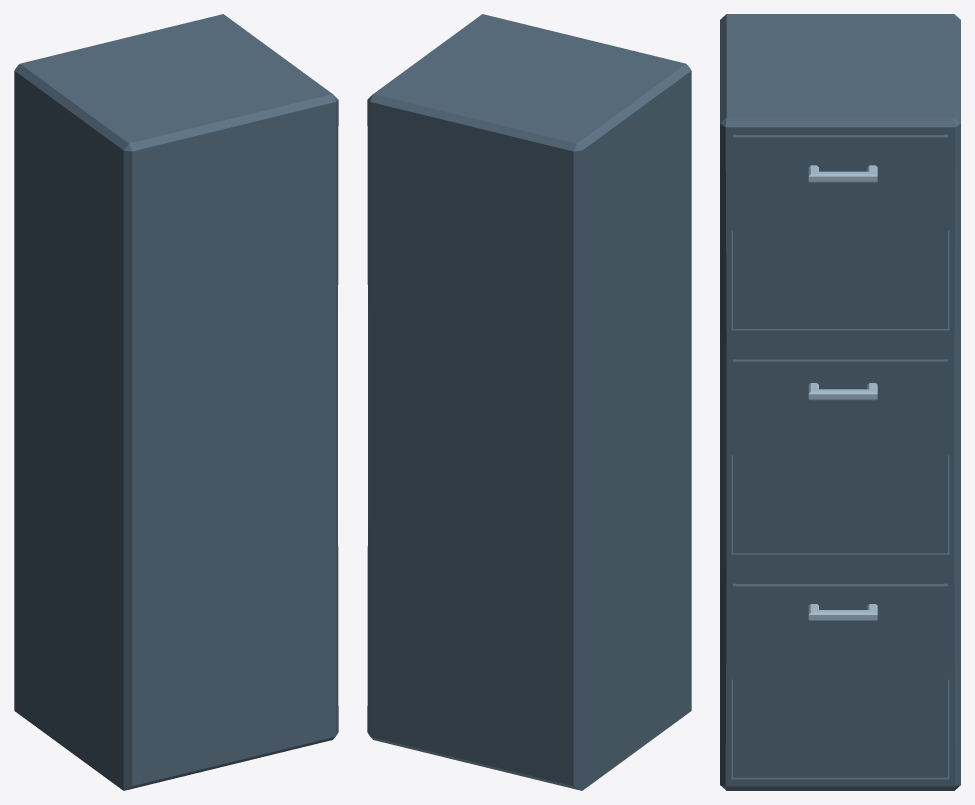
The model's file is SM_FileCabinetClosed.fbx.
The picture shows the model from 3 angles, left to right: view 1: azimuth 30°, elevation 25°; view 2: azimuth 150°, elevation 25°; view 3: azimuth 270°, elevation 25°; orthographic projection. The views are drawn at different scales.
Visible parts, largest first — view 1: Cube.006; view 2: Cube.006; view 3: Cube.006.
Part boxes in pixels (x1,y1,x2,y2): Cube.006: [14, 14, 338, 790]; Cube.006: [367, 14, 691, 790]; Cube.006: [720, 14, 960, 790].
Size of the model in its own units: 44.47 by 52.01 by 137.
